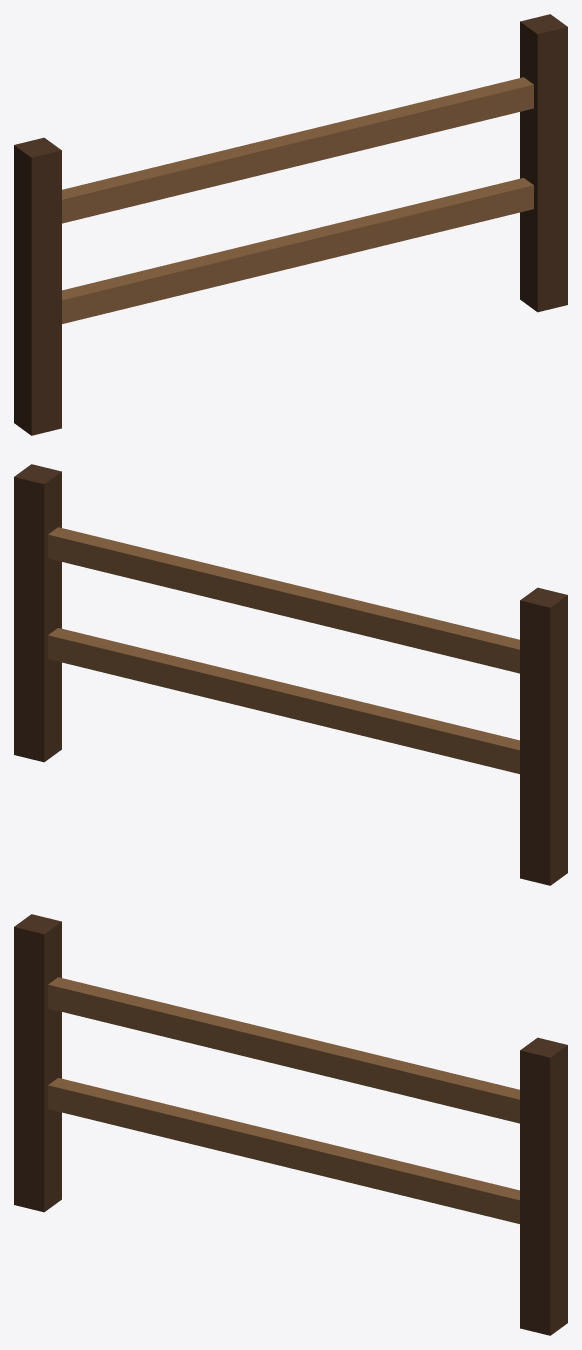
File: prop_fence.glb
The picture shows the model from 3 angles, top to bottom: view 1: azimuth 30°, elevation 25°; view 2: azimuth 150°, elevation 25°; view 3: azimuth 330°, elevation 25°; orthographic projection.
Visible parts, largest first — view 1: prop_fence; view 2: prop_fence; view 3: prop_fence.
Part boxes in pixels (x1,y1,x2,y2): prop_fence: (14,14,567,435); prop_fence: (14,464,567,885); prop_fence: (14,914,567,1335).
Bounding box in the file's own units: 2.12 × 1.05 × 0.12.
